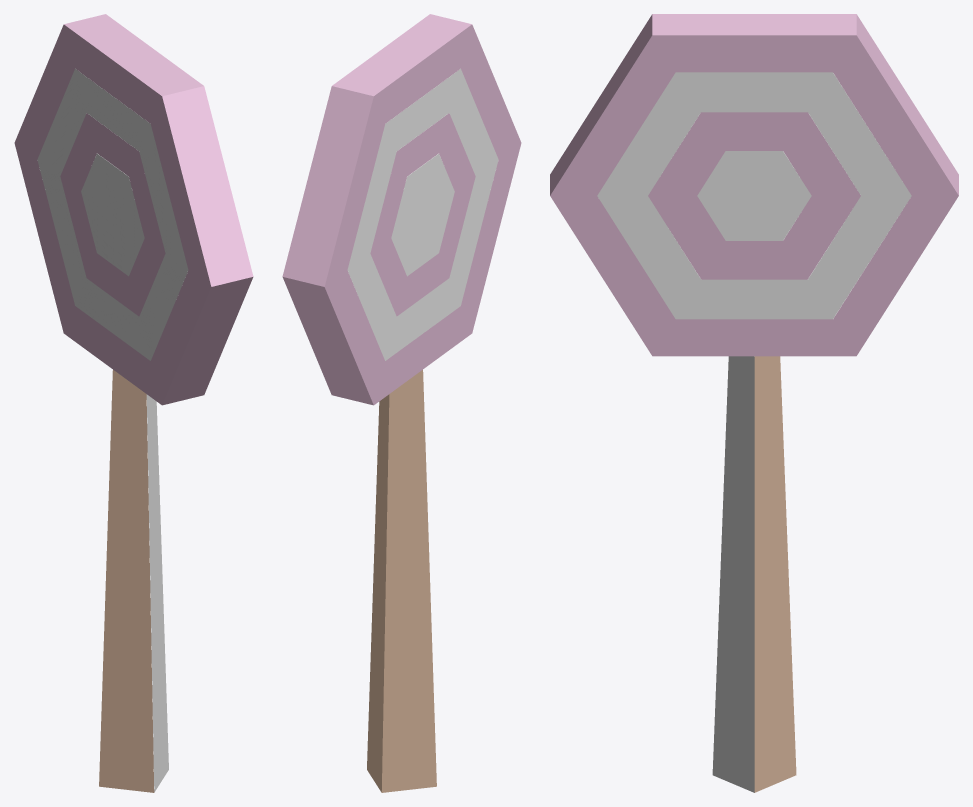
File: lollypop.glb
3 views of the same model, side by side, from view 1: azimuth 30°, elevation 25°; view 2: azimuth 150°, elevation 25°; view 3: azimuth 270°, elevation 25° (orthographic). The views are drawn at different scales.
Visible parts, largest first — view 1: lollypop; view 2: lollypop; view 3: lollypop.
Part boxes in pixels (x1,y1,x2,y2): lollypop: (14, 14, 253, 792); lollypop: (282, 14, 521, 792); lollypop: (550, 14, 958, 792).
Size of the model in its own units: 0.0385 by 0.3798 by 0.1875.
